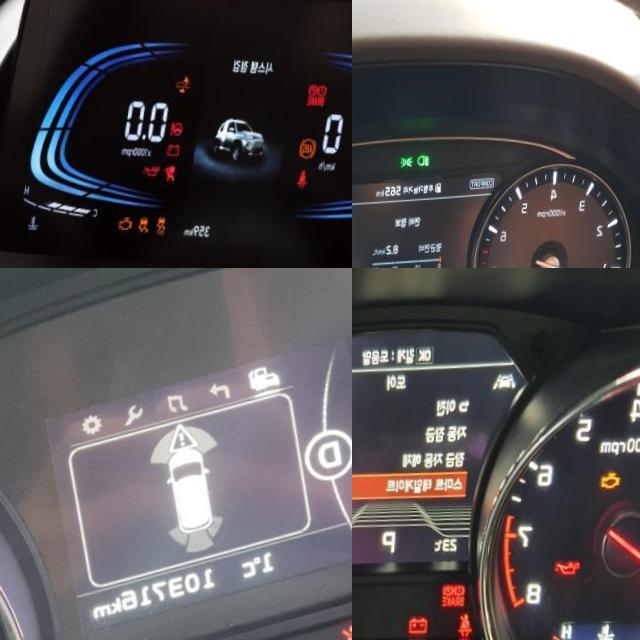LaneCenteringOff: (497, 374, 521, 395)
Low beam: (419, 157, 433, 171)
SideLamp: (401, 157, 417, 172)
